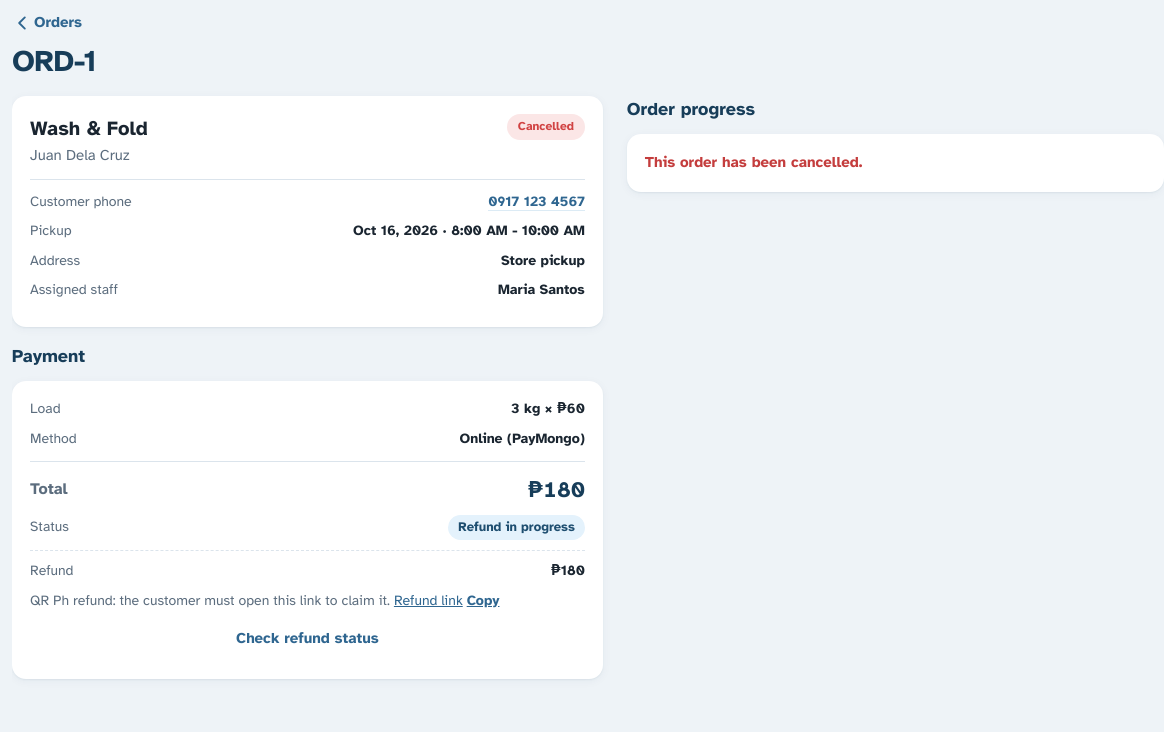
Test case: refund on the order page › cash and delivered orders have no refund button; refund in progress shows link + status check
Click the button "Check refund status": (307, 638) [30,615,585,661]
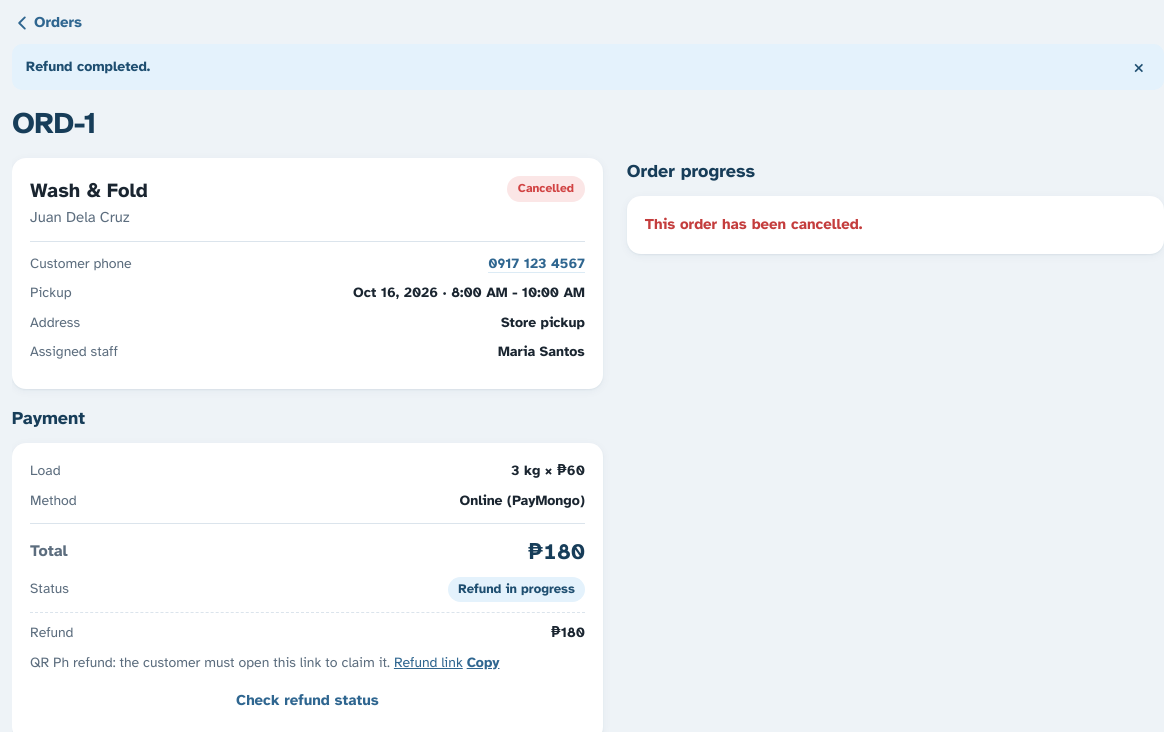
Expected: the text "Refund completed." is shown, [26,58,150,75]
